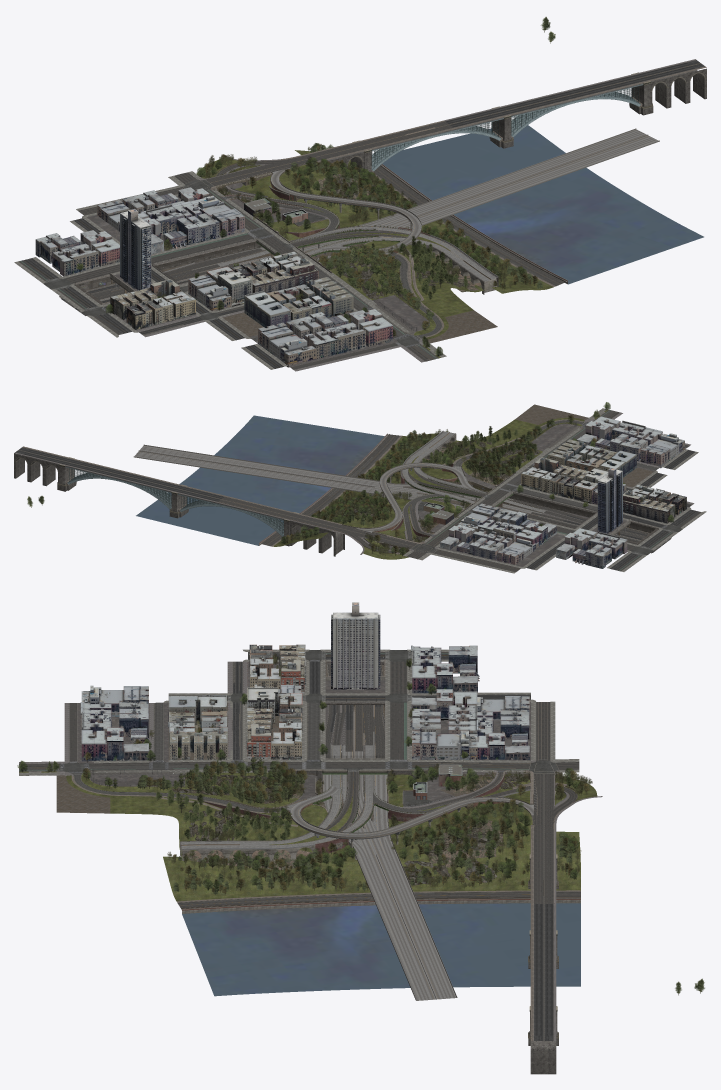
Rendered from FIXED_New_York_Highway_Interstate_95.glb.
3 renders of one model, top to bottom at view 1: azimuth 30°, elevation 25°; view 2: azimuth 150°, elevation 25°; view 3: azimuth 270°, elevation 25°, orthographic. The views are drawn at different scales.
Parts seen in each view (by area): view 1: gds_142_0, gds_036_36, gds_001_1, gds_023_23, gds_015_15, gds_019_19, gds_044_44, gds_029_29, gds_024_24, gds_010_10, gds_038_38, gds_022_22 (+17 smaller); view 2: gds_142_0, gds_036_36, gds_001_1, gds_015_15, gds_023_23, gds_019_19, gds_044_44, gds_029_29, gds_024_24, gds_035_35, gds_010_10, gds_022_22 (+20 smaller); view 3: gds_142_0, gds_001_1, gds_019_19, gds_036_36, gds_023_23, gds_015_15, gds_029_29, gds_044_44, gds_010_10, gds_022_22, gds_024_24, gds_011_11 (+13 smaller).
Boxes of the visible parts, x1,y1,x2,y2 form: gds_142_0: (382, 125, 703, 284); gds_036_36: (35, 187, 392, 367); gds_001_1: (76, 17, 555, 356); gds_023_23: (18, 121, 565, 369); gds_015_15: (211, 129, 658, 281); gds_019_19: (197, 150, 553, 358); gds_044_44: (110, 251, 318, 329); gds_029_29: (14, 66, 704, 369); gds_024_24: (21, 60, 704, 368); gds_010_10: (74, 59, 706, 371); gds_038_38: (244, 277, 353, 327); gds_022_22: (142, 63, 700, 360); gds_142_0: (136, 415, 384, 545); gds_036_36: (440, 416, 684, 568); gds_001_1: (27, 402, 677, 555); gds_015_15: (134, 431, 545, 532); gds_023_23: (218, 411, 701, 571); gds_019_19: (273, 409, 608, 559); gds_044_44: (521, 457, 686, 523); gds_029_29: (23, 408, 706, 573); gds_024_24: (15, 447, 698, 570); gds_035_35: (14, 426, 579, 556); gds_010_10: (14, 412, 694, 554); gds_022_22: (18, 409, 692, 546); gds_142_0: (182, 903, 580, 996); gds_001_1: (17, 653, 704, 995); gds_019_19: (19, 771, 597, 901); gds_036_36: (80, 645, 529, 761); gds_023_23: (19, 652, 580, 908); gds_015_15: (180, 745, 533, 1000); gds_029_29: (19, 649, 579, 1040); gds_044_44: (246, 644, 305, 759); gds_010_10: (19, 661, 602, 1040); gds_022_22: (19, 661, 580, 1040); gds_024_24: (169, 653, 553, 1040); gds_011_11: (77, 661, 556, 841).
Bounding box in the file's own units: 21.3 × 3 × 15.95.
47 materials, 46 textured.
